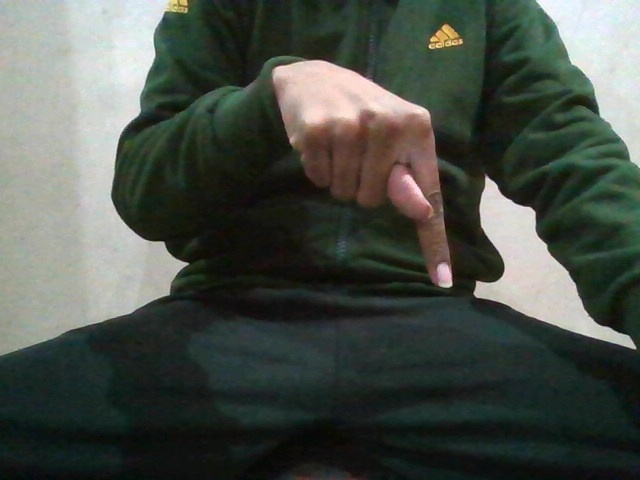Z: (280, 81, 473, 300)
